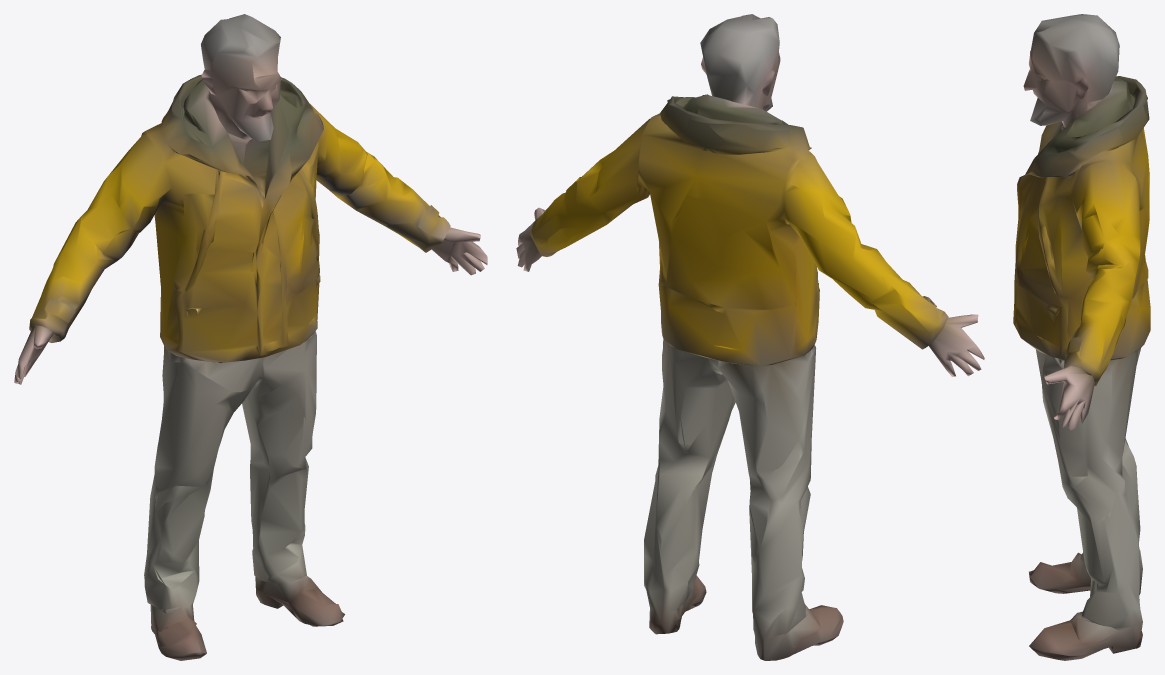
File: homme-2.glb
3 views of the same model, side by side, from view 1: azimuth 30°, elevation 25°; view 2: azimuth 150°, elevation 25°; view 3: azimuth 270°, elevation 25° (orthographic).
Visible parts, largest first — view 1: spectateur; view 2: spectateur; view 3: spectateur.
Boxes of the visible parts, box(x1,y1,x2,y2) form: spectateur: box(14, 14, 487, 660); spectateur: box(516, 14, 984, 660); spectateur: box(1013, 14, 1150, 660).
Bounding box in the file's own units: 1.45 × 1.8 × 0.3734.
